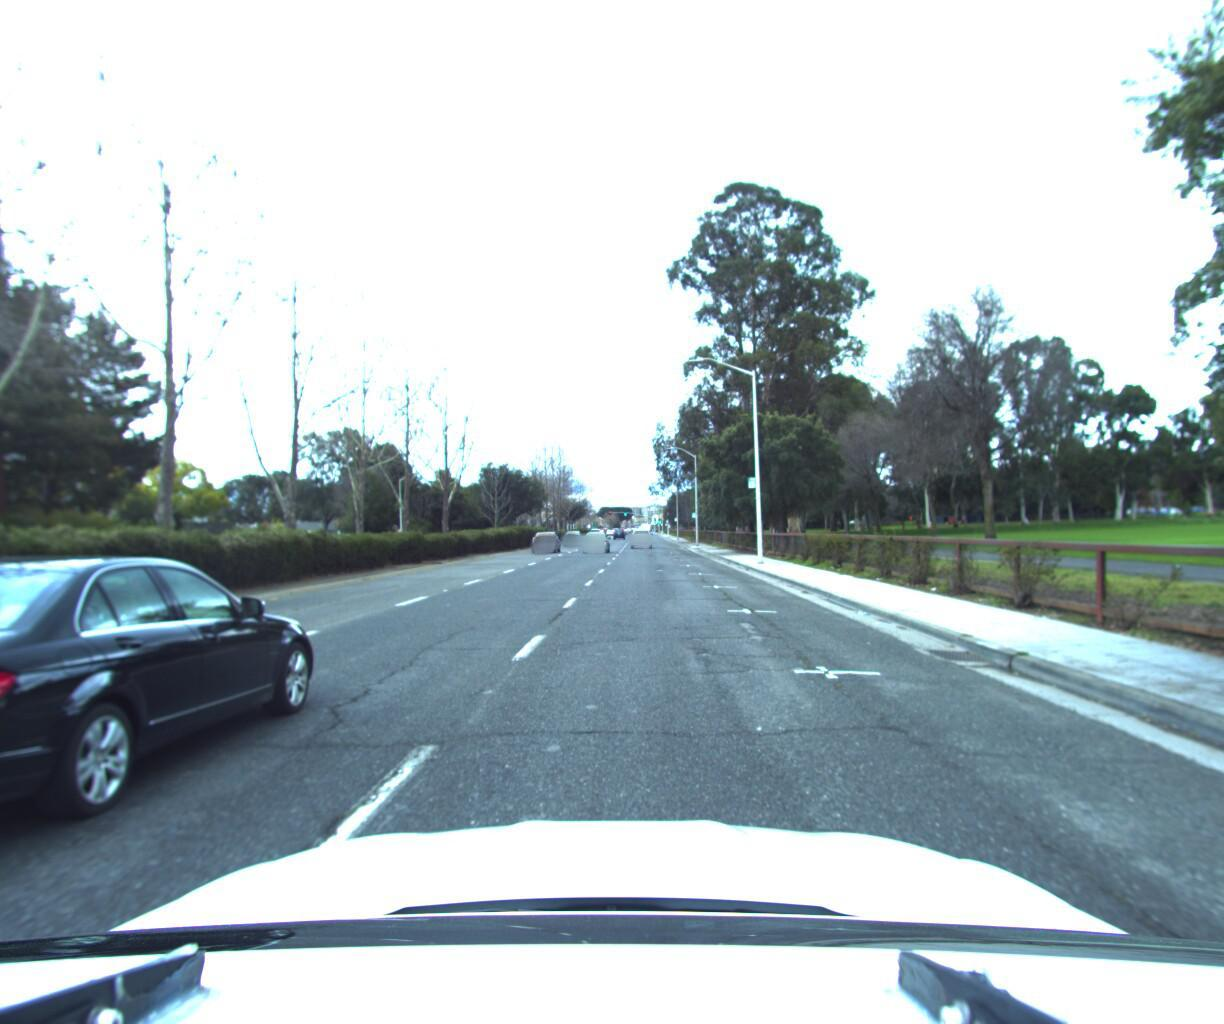car: (0, 540, 339, 879), (531, 528, 562, 550), (579, 525, 609, 547), (628, 525, 651, 546)
